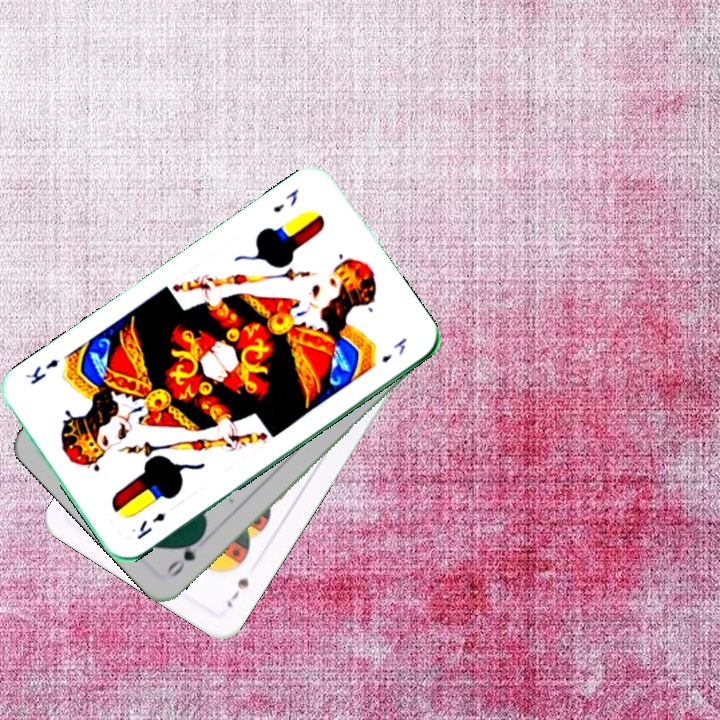EK: (133, 508, 168, 542), (269, 185, 302, 215)
GO: (162, 531, 206, 580)
S7: (222, 574, 252, 611)
